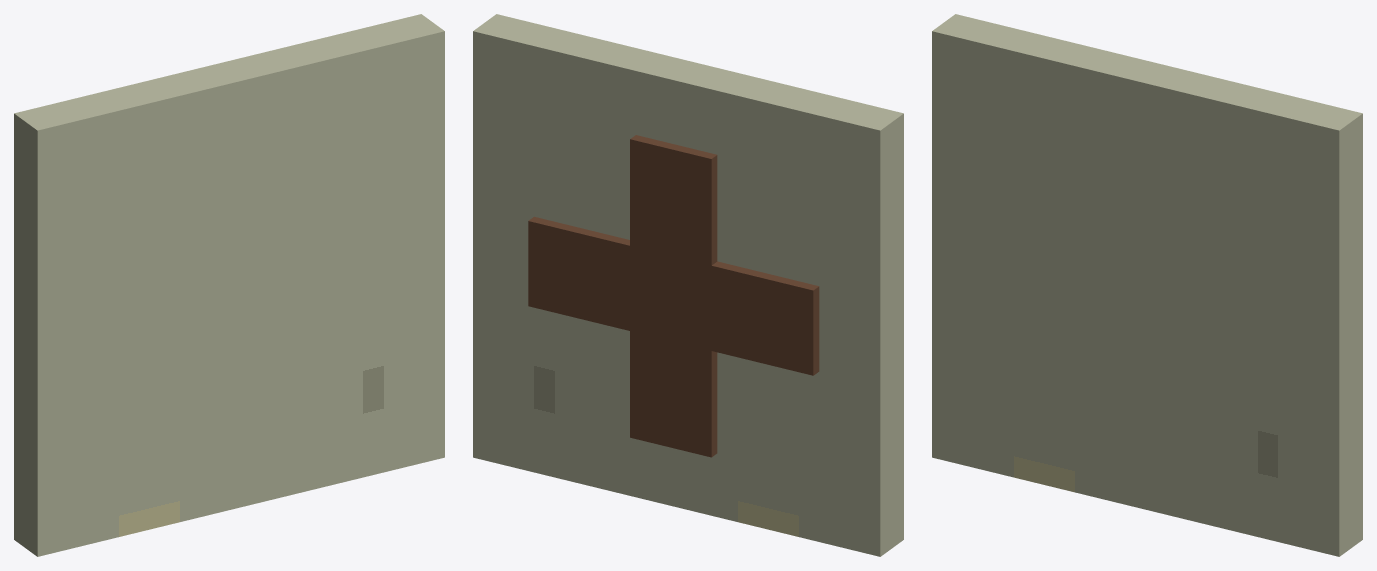
Rendered from clinic_sign.gltf.
3 views of the same model, side by side, from view 1: azimuth 30°, elevation 25°; view 2: azimuth 150°, elevation 25°; view 3: azimuth 330°, elevation 25° (orthographic).
Visible parts, largest first — view 1: panel; view 2: panel, cross_h, cross_v; view 3: panel.
Part boxes in pixels (x1,y1,x2,y2): panel: (14,14,444,556); panel: (473,14,903,556); cross_h: (528,216,819,375); cross_v: (630,135,717,457); panel: (932,14,1362,556).
Size of the model in its own units: 1.25 by 1.25 by 0.1562.
2 materials, 2 textured.
